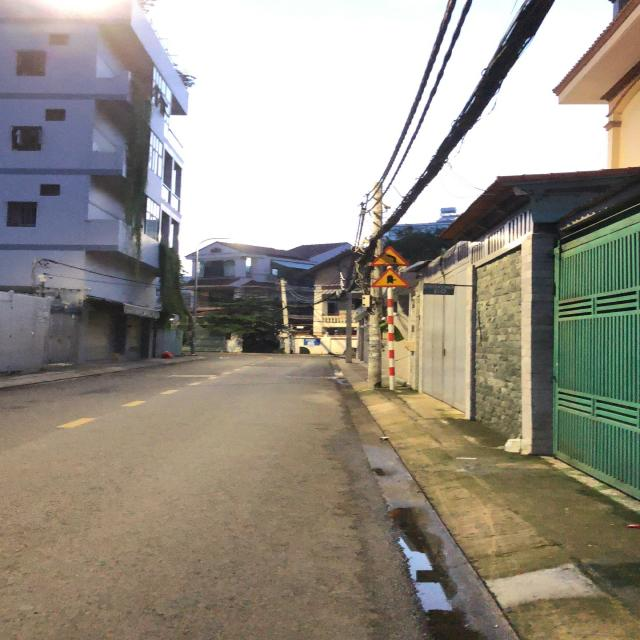Bien bao cho ngoat nguy hiem: (366, 240, 413, 266)
Bien bao giao nhau voi duong khong uu tien: (370, 268, 417, 290)
